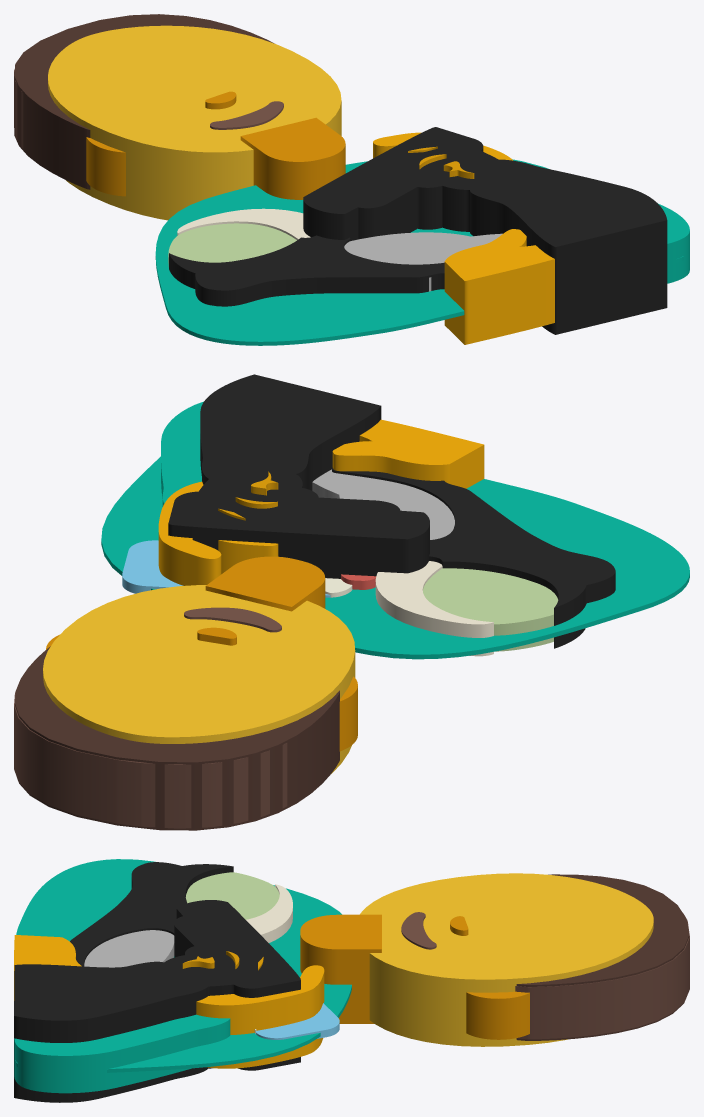
Rendered from emoji_u1f468_200d_1f37c.glb.
The picture shows the model from 3 angles, top to bottom: view 1: azimuth 30°, elevation 25°; view 2: azimuth 150°, elevation 25°; view 3: azimuth 270°, elevation 25°; orthographic projection. The views are drawn at different scales.
Parts seen in each view (by area): view 1: emoji_u1f468_200d_1f37c; view 2: emoji_u1f468_200d_1f37c; view 3: emoji_u1f468_200d_1f37c.
Boxes of the visible parts, x1=… form: emoji_u1f468_200d_1f37c: x1=14, y1=14, x2=689, y2=345; emoji_u1f468_200d_1f37c: x1=14, y1=374, x2=689, y2=830; emoji_u1f468_200d_1f37c: x1=14, y1=859, x2=689, y2=1102.
Size of the model in its own units: 0.0246 by 0.005 by 0.0328.
